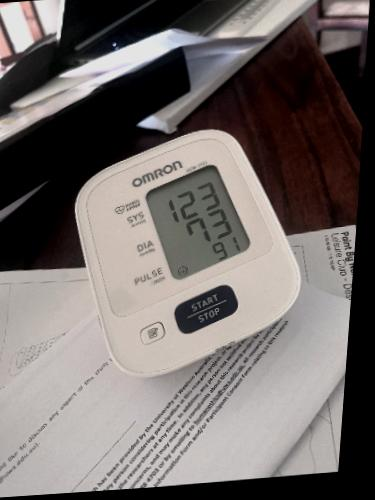bpm: (133, 158, 258, 287)
